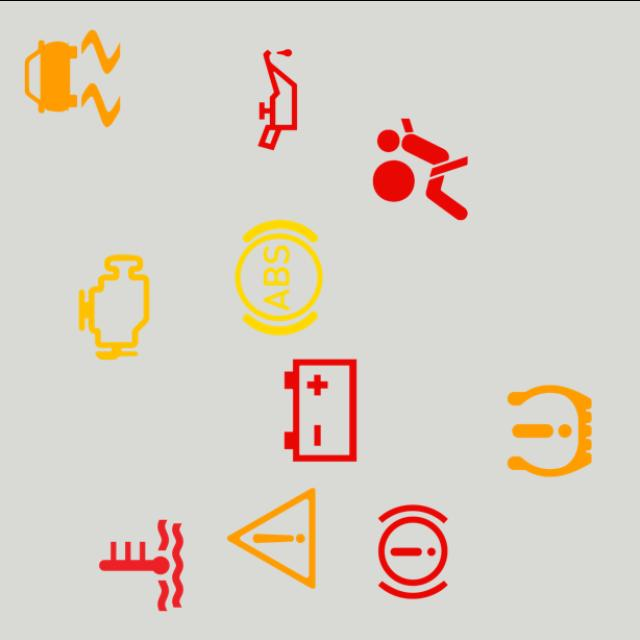Anti Lock Braking System: (216, 213, 342, 339)
Braking System Issue: (351, 488, 476, 614)
Charging System Issue: (257, 346, 383, 472)
Check Engine: (51, 243, 177, 369)
Electronic Stability Problem -ESP-: (10, 15, 136, 140)
Engine Overheating Warning Light: (78, 502, 204, 628)
Low Engine Oil Warning Light: (215, 36, 341, 162)
Low Tire Pressure Warning Light: (487, 367, 613, 493)
Master warning light: (208, 474, 334, 600)
SRS-Airbag: (358, 106, 483, 232)
